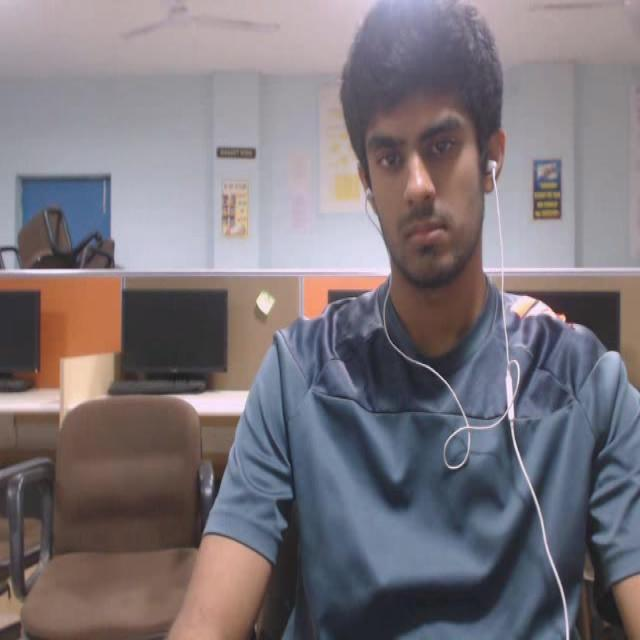Engaged: (325, 0, 514, 309)
